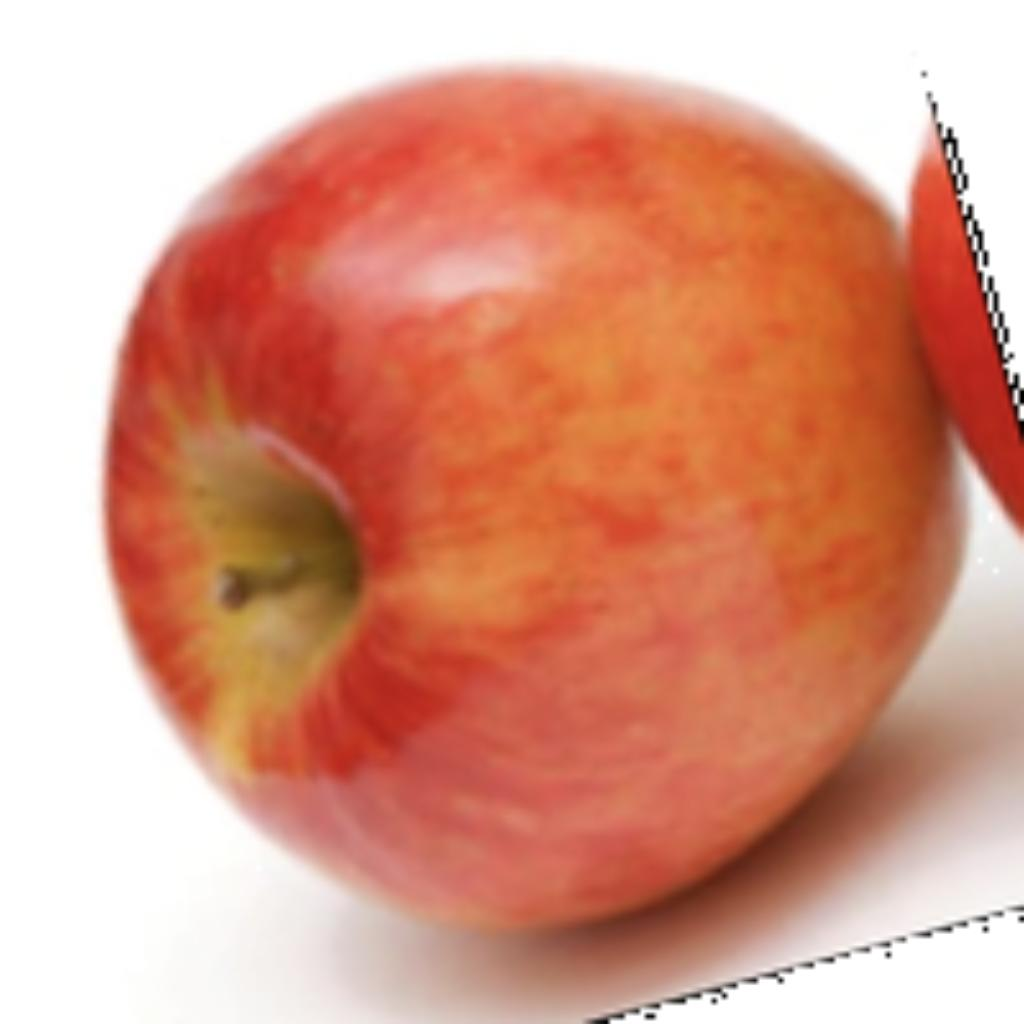apple: (92, 51, 1019, 1019)
